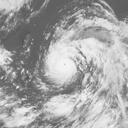cyclone: (44, 52, 79, 86)
